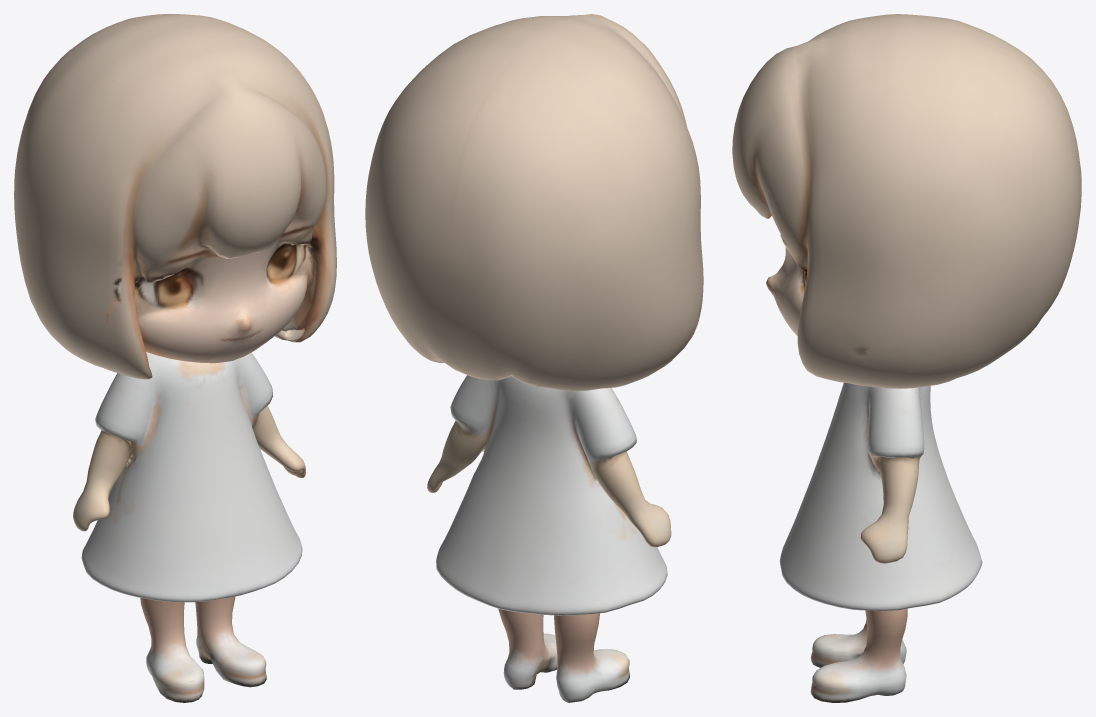
The model's file is base_basic_pbr.glb.
The picture shows the model from 3 angles, left to right: view 1: azimuth 30°, elevation 25°; view 2: azimuth 150°, elevation 25°; view 3: azimuth 270°, elevation 25°; orthographic projection. The views are drawn at different scales.
Visible parts, largest first — view 1: model; view 2: model; view 3: model.
Part boxes in pixels (bbox=[...]): model: bbox=[14, 14, 336, 702]; model: bbox=[365, 14, 703, 702]; model: bbox=[732, 14, 1081, 702].
Size of the model in its own units: 0.8836 by 1.9 by 0.9229.
1 material, 1 textured.
